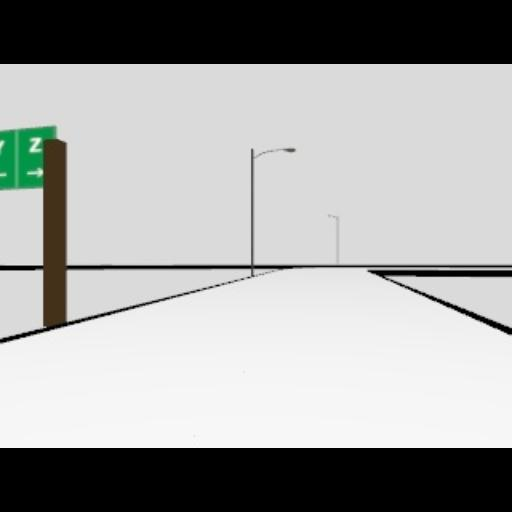Left: (0, 172, 6, 176)
Right: (25, 168, 43, 178)
X: (0, 139, 4, 153)
Z: (27, 136, 41, 152)
